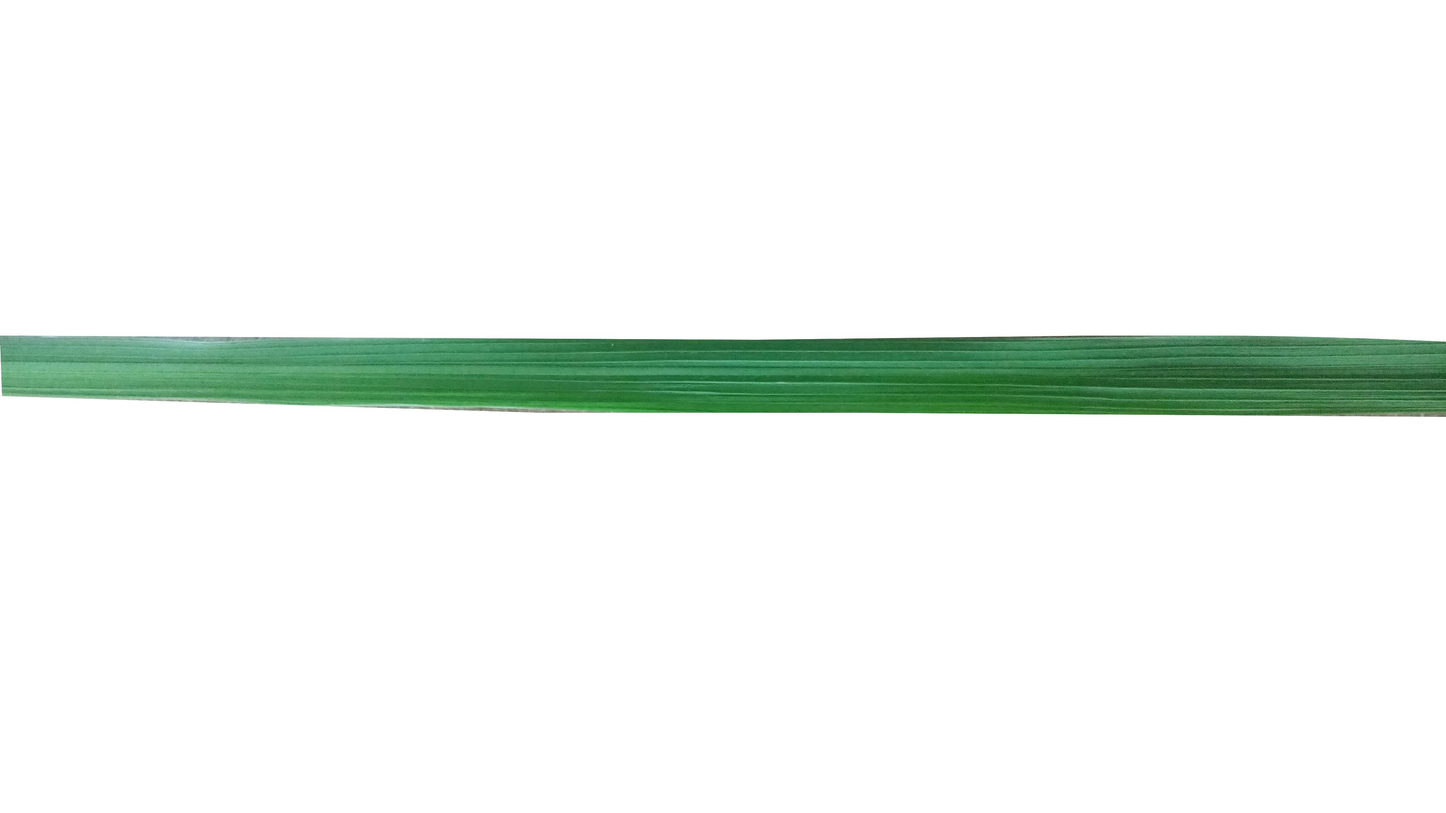Healthy: (0, 336, 1446, 418)
